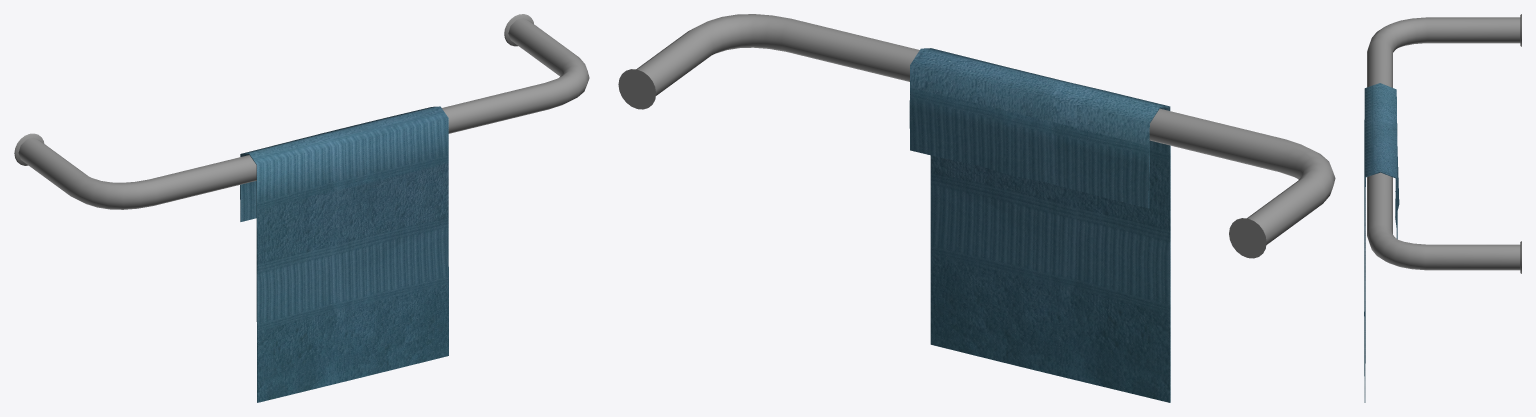
Rendered from BathStand02a.FBX.
The picture shows the model from 3 angles, left to right: view 1: azimuth 30°, elevation 25°; view 2: azimuth 150°, elevation 25°; view 3: azimuth 270°, elevation 25°; orthographic projection. The views are drawn at different scales.
Parts seen in each view (by area): view 1: Towel01, BathStand02a; view 2: Towel01, BathStand02a; view 3: BathStand02a, Towel01.
Part boxes in pixels (box(x1,y1,x2,y2)): Towel01: box(240, 106, 448, 402); BathStand02a: box(14, 14, 589, 209); Towel01: box(909, 48, 1170, 402); BathStand02a: box(618, 14, 1335, 258); BathStand02a: box(1367, 14, 1521, 273); Towel01: box(1364, 83, 1399, 402).
Bounding box in the file's own units: 48.89 × 21.91 × 13.51.
